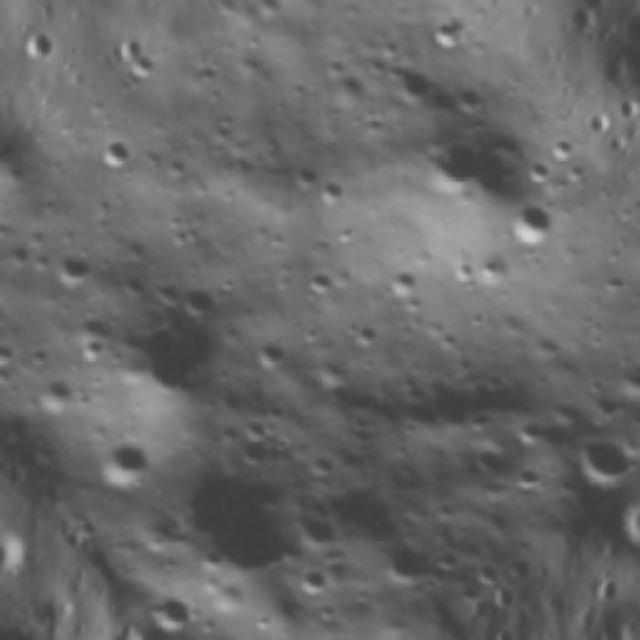crater: (162, 446, 312, 603), (99, 279, 244, 423), (406, 87, 552, 230), (563, 411, 640, 500), (89, 427, 163, 504), (372, 48, 443, 119), (502, 189, 570, 257), (141, 577, 213, 640), (371, 532, 437, 596), (218, 412, 278, 476), (422, 9, 483, 69), (172, 266, 231, 328), (290, 258, 348, 317), (44, 235, 102, 292), (87, 125, 144, 181), (25, 367, 81, 422), (244, 328, 299, 384), (378, 257, 433, 312), (286, 554, 340, 606), (460, 434, 512, 484), (504, 449, 553, 498), (427, 535, 475, 582), (284, 148, 330, 192), (318, 165, 362, 209), (123, 50, 165, 92), (464, 552, 508, 592), (0, 282, 25, 338), (0, 218, 2, 342)
